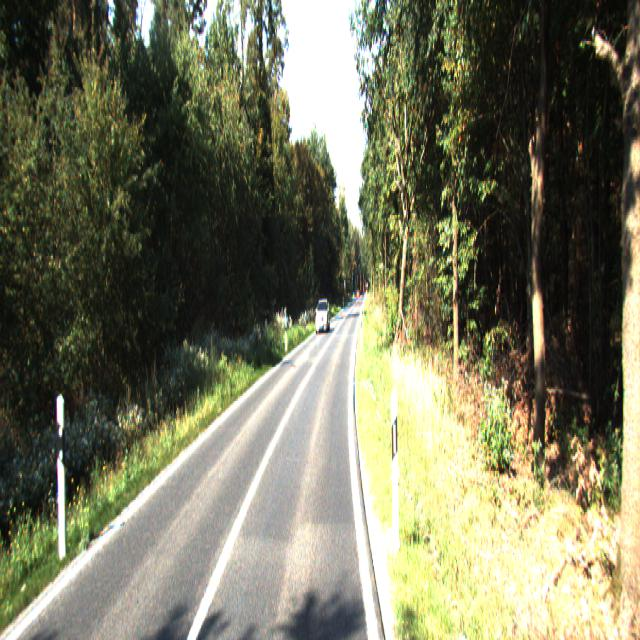Car: (314, 298, 330, 334)
